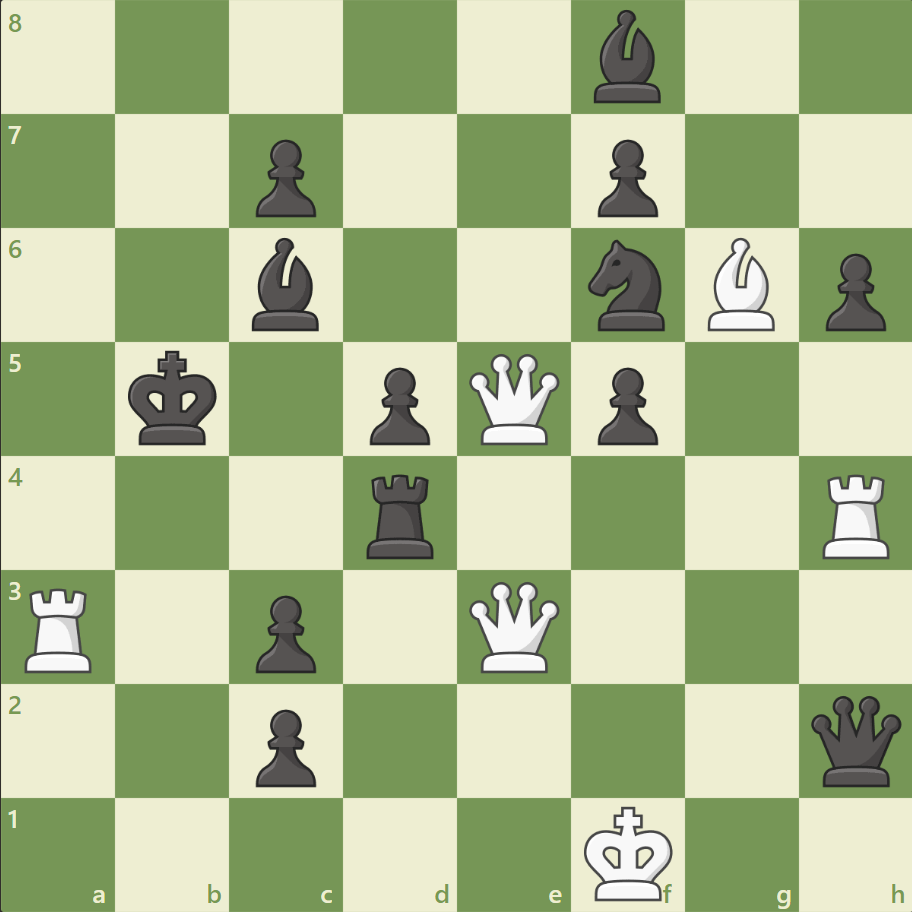B: (698, 233, 782, 336)
K: (579, 798, 679, 906)
Q: (464, 349, 563, 449), (464, 576, 563, 676)
R: (814, 466, 897, 563), (19, 579, 102, 676)
b: (585, 6, 669, 109), (244, 233, 328, 336)
k: (124, 344, 224, 452)
n: (579, 234, 676, 337)
p: (247, 132, 322, 223), (247, 586, 322, 677), (247, 700, 322, 791), (588, 132, 662, 223), (815, 246, 889, 337), (361, 359, 435, 450), (588, 359, 662, 450)
q: (805, 690, 904, 789)
r: (360, 466, 442, 563)
